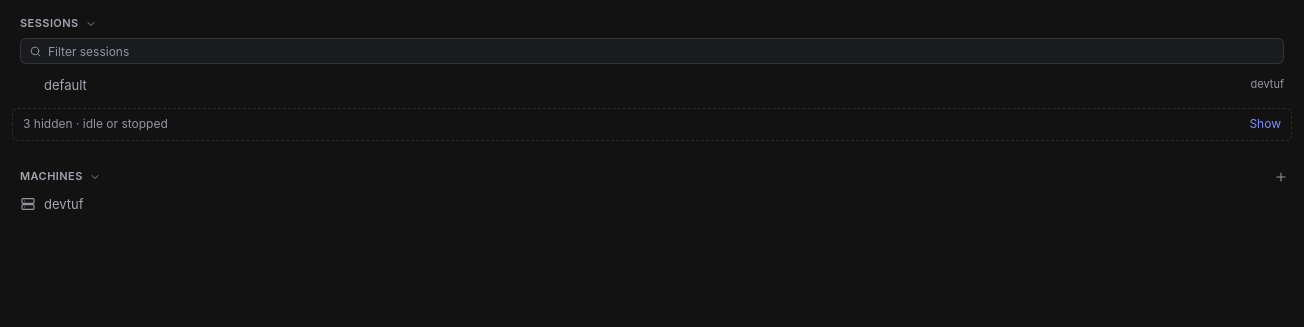
it: Stopped Sessions fold › Show under Active opens the folds it brings back
Step 1. Click the button "Show" → coordinates (1265, 124), box [1249,116,1281,133]
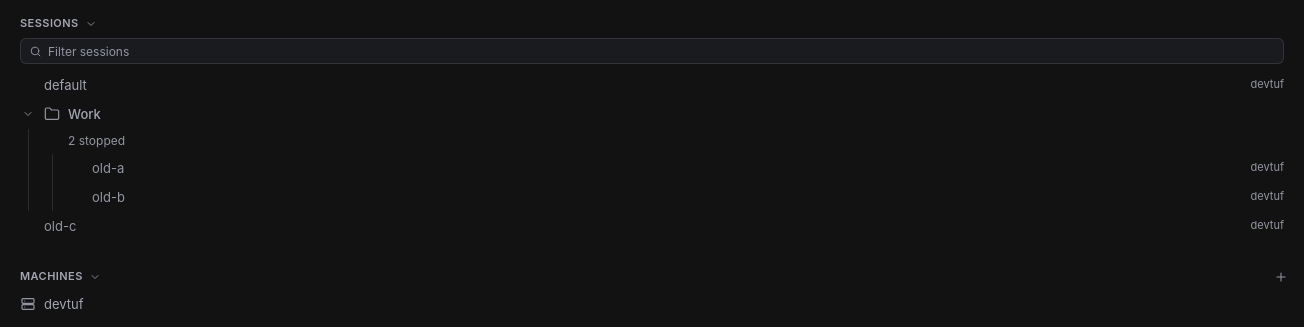
Result: the button "old-a devtuf" is shown at [60,154,1292,182]
